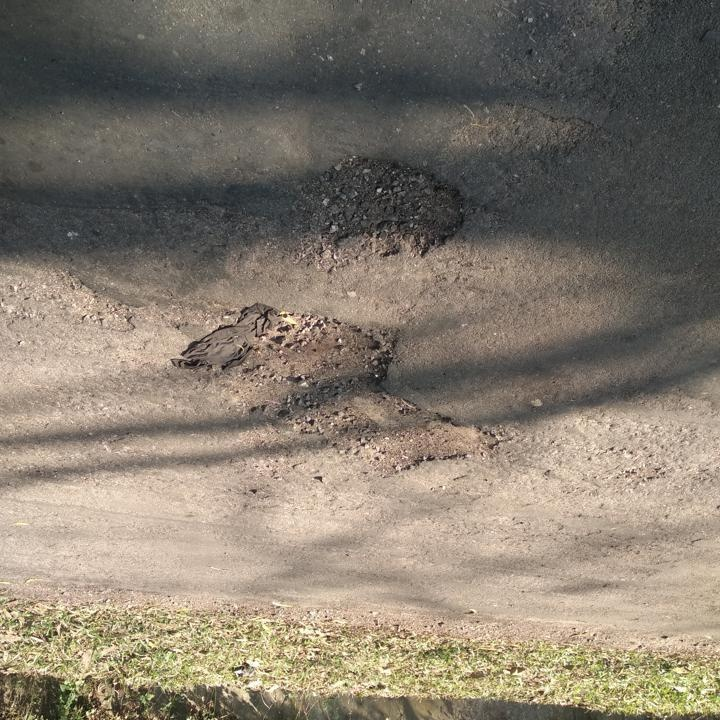pothole: (198, 308, 503, 483), (294, 153, 472, 265)
